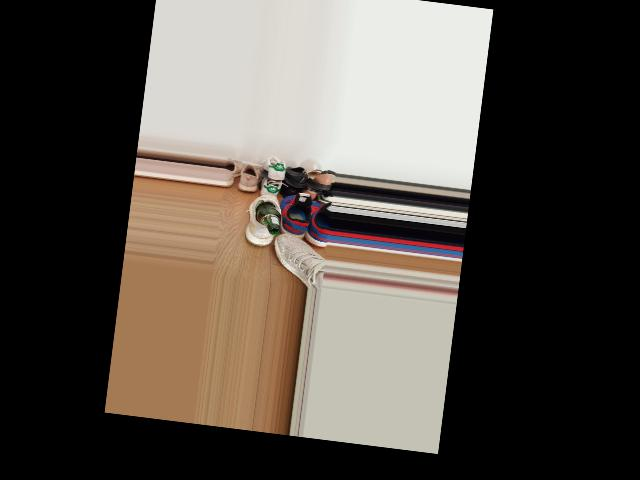beer: (253, 201, 283, 236)
